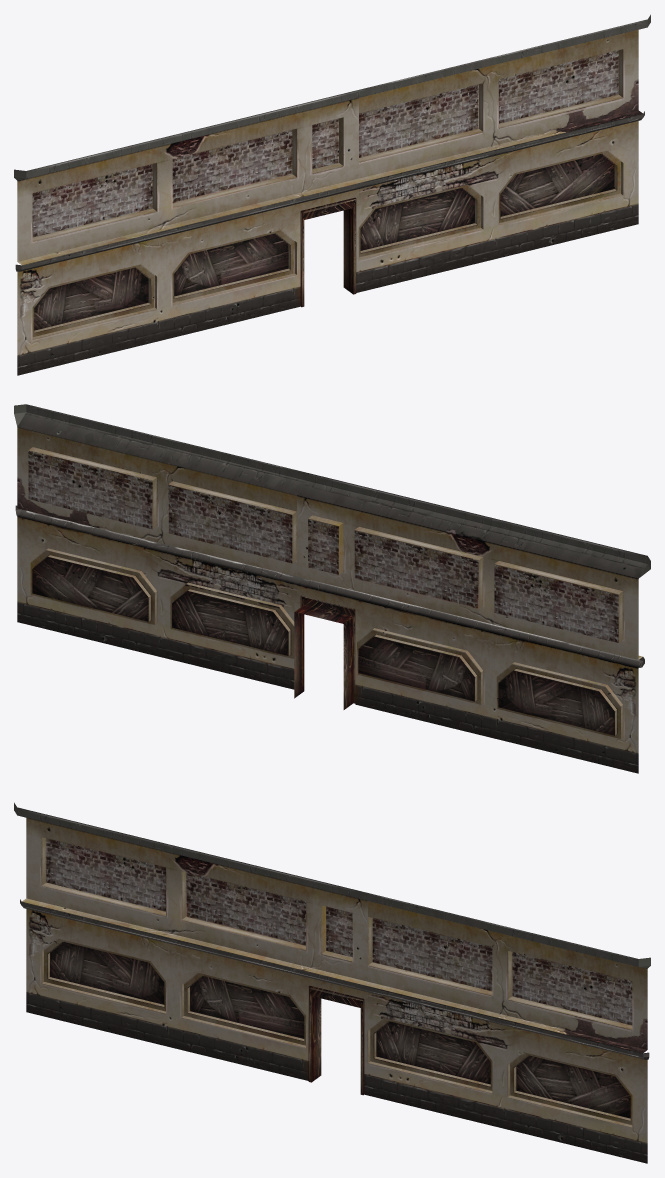
Rendered from wall_facade.FBX.
3 renders of one model, top to bottom at view 1: azimuth 30°, elevation 25°; view 2: azimuth 150°, elevation 25°; view 3: azimuth 330°, elevation 25°, orthographic.
Visible parts, largest first — view 1: wall_facade; view 2: wall_facade; view 3: wall_facade.
Boxes of the visible parts, left/top/right/bottom form: wall_facade: left=14, top=14, right=650, bottom=375; wall_facade: left=14, top=404, right=650, bottom=773; wall_facade: left=14, top=802, right=650, bottom=1163.
Size of the model in its own units: 1845 by 585 by 90.
